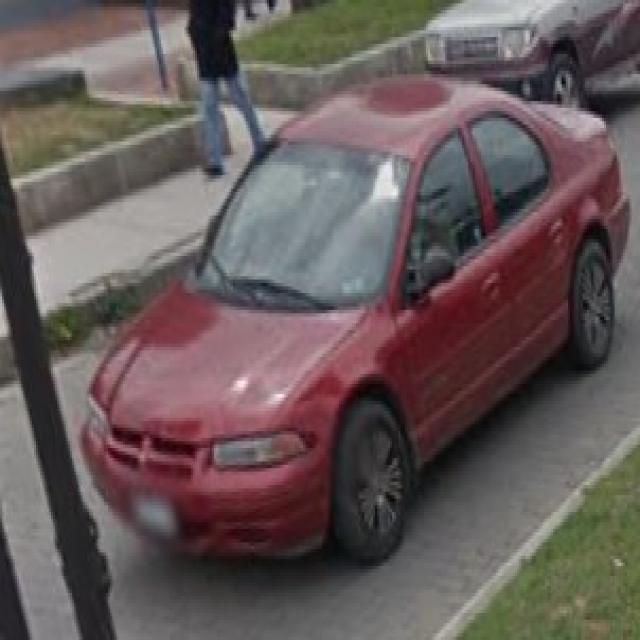cars: (78, 77, 630, 551)
